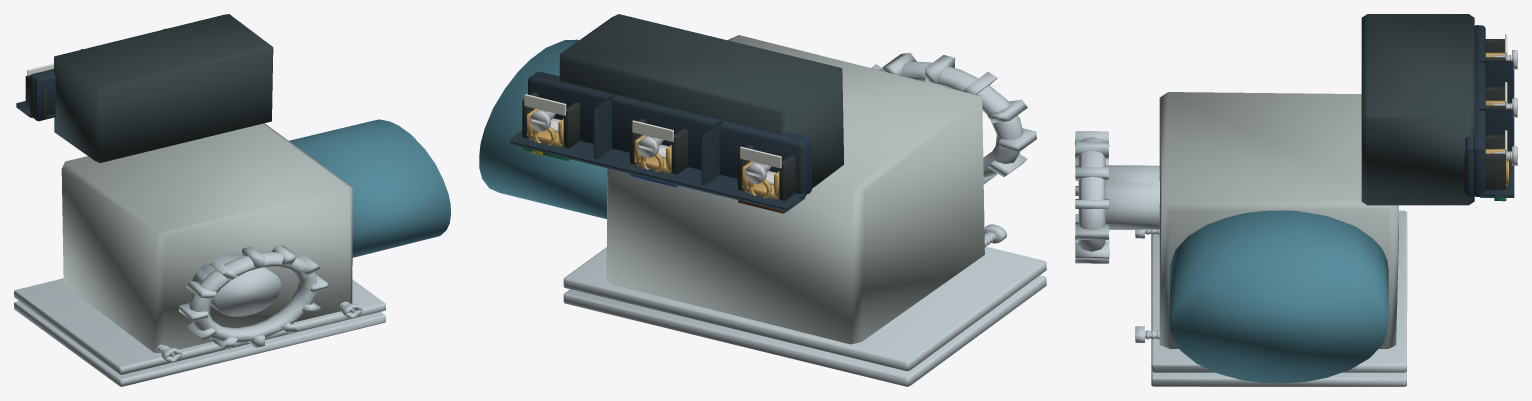
Rendered from motor_gate.low.glb.
The picture shows the model from 3 angles, left to right: view 1: azimuth 30°, elevation 25°; view 2: azimuth 150°, elevation 25°; view 3: azimuth 270°, elevation 25°; orthographic projection. The views are drawn at different scales.
Parts seen in each view (by area): view 1: Gate reduction gearbox, Rear motor connection box, Geared motor housing, part:mounting · Machined steel, motion:gate-output · Machined steel, part:terminals · Original a463fd81; view 2: Gate reduction gearbox, Rear motor connection box, part:mounting · Machined steel, part:terminals · Original a463fd81, Geared motor housing, motion:gate-output · Machined steel, detail:terminal-clamp:L · Detail moulded engineering polymer, detail:terminal-clamp:PE · Detail moulded engineering polyme, detail:terminal-clamp:N · Detail moulded engineering polymer, detail:terminal-clamp:L · Detail machined brass, detail:terminal-clamp:N · Detail machined brass, detail:terminal-clamp:PE · Detail machined brass (+6 smaller); view 3: Geared motor housing, Gate reduction gearbox, Rear motor connection box, motion:gate-output · Machined steel, part:mounting · Machined steel, part:terminals · Original a463fd81, detail:terminal-clamp:PE · Detail moulded engineering polyme.
Boxes of the visible parts, x1,y1,x2,y2 form: Gate reduction gearbox: [61, 123, 352, 353]; Rear motor connection box: [54, 14, 273, 162]; Geared motor housing: [289, 119, 450, 257]; part:mounting · Machined steel: [14, 278, 385, 386]; motion:gate-output · Machined steel: [179, 245, 327, 349]; part:terminals · Original a463fd81: [16, 28, 165, 121]; Gate reduction gearbox: [606, 35, 984, 344]; Rear motor connection box: [559, 14, 844, 188]; part:mounting · Machined steel: [563, 224, 1046, 386]; part:terminals · Original a463fd81: [510, 71, 811, 211]; Geared motor housing: [479, 39, 606, 219]; motion:gate-output · Machined steel: [871, 52, 1036, 184]; detail:terminal-clamp:L · Detail moulded engineering polymer: [737, 144, 795, 201]; detail:terminal-clamp:PE · Detail moulded engineering polyme: [522, 92, 580, 148]; detail:terminal-clamp:N · Detail moulded engineering polymer: [630, 118, 687, 174]; detail:terminal-clamp:L · Detail machined brass: [742, 161, 779, 199]; detail:terminal-clamp:N · Detail machined brass: [634, 135, 671, 172]; detail:terminal-clamp:PE · Detail machined brass: [526, 108, 563, 146]; Geared motor housing: [1170, 210, 1388, 383]; Gate reduction gearbox: [1159, 92, 1398, 348]; Rear motor connection box: [1361, 14, 1474, 205]; motion:gate-output · Machined steel: [1075, 131, 1159, 263]; part:mounting · Machined steel: [1135, 210, 1407, 386]; part:terminals · Original a463fd81: [1465, 25, 1514, 197]; detail:terminal-clamp:PE · Detail moulded engineering polyme: [1464, 135, 1506, 192].
Size of the model in its own units: 1.23 by 0.7557 by 1.17.
